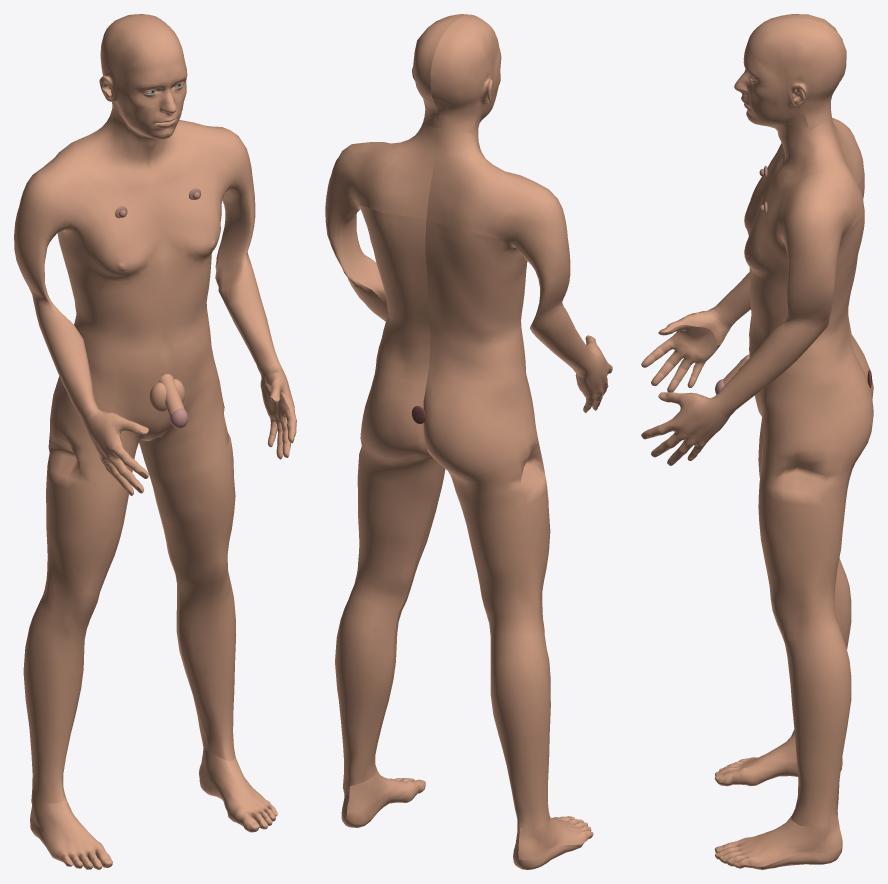
The model's file is body-erwachsener-divers-penis-keine-brueste-real-v3.glb.
The picture shows the model from 3 angles, left to right: view 1: azimuth 30°, elevation 25°; view 2: azimuth 150°, elevation 25°; view 3: azimuth 270°, elevation 25°; orthographic projection.
Parts seen in each view (by area): view 1: real-human-body, real-human-penis; view 2: real-human-body; view 3: real-human-body.
Part boxes in pixels (box(x1,y1,x2,y2)): real-human-body: box(14, 14, 296, 869); real-human-penis: box(159, 374, 184, 416); real-human-body: box(325, 14, 612, 869); real-human-body: box(641, 14, 873, 869).
Bounding box in the file's own units: 0.521 × 1.72 × 0.4518.
8 materials, 1 textured.
